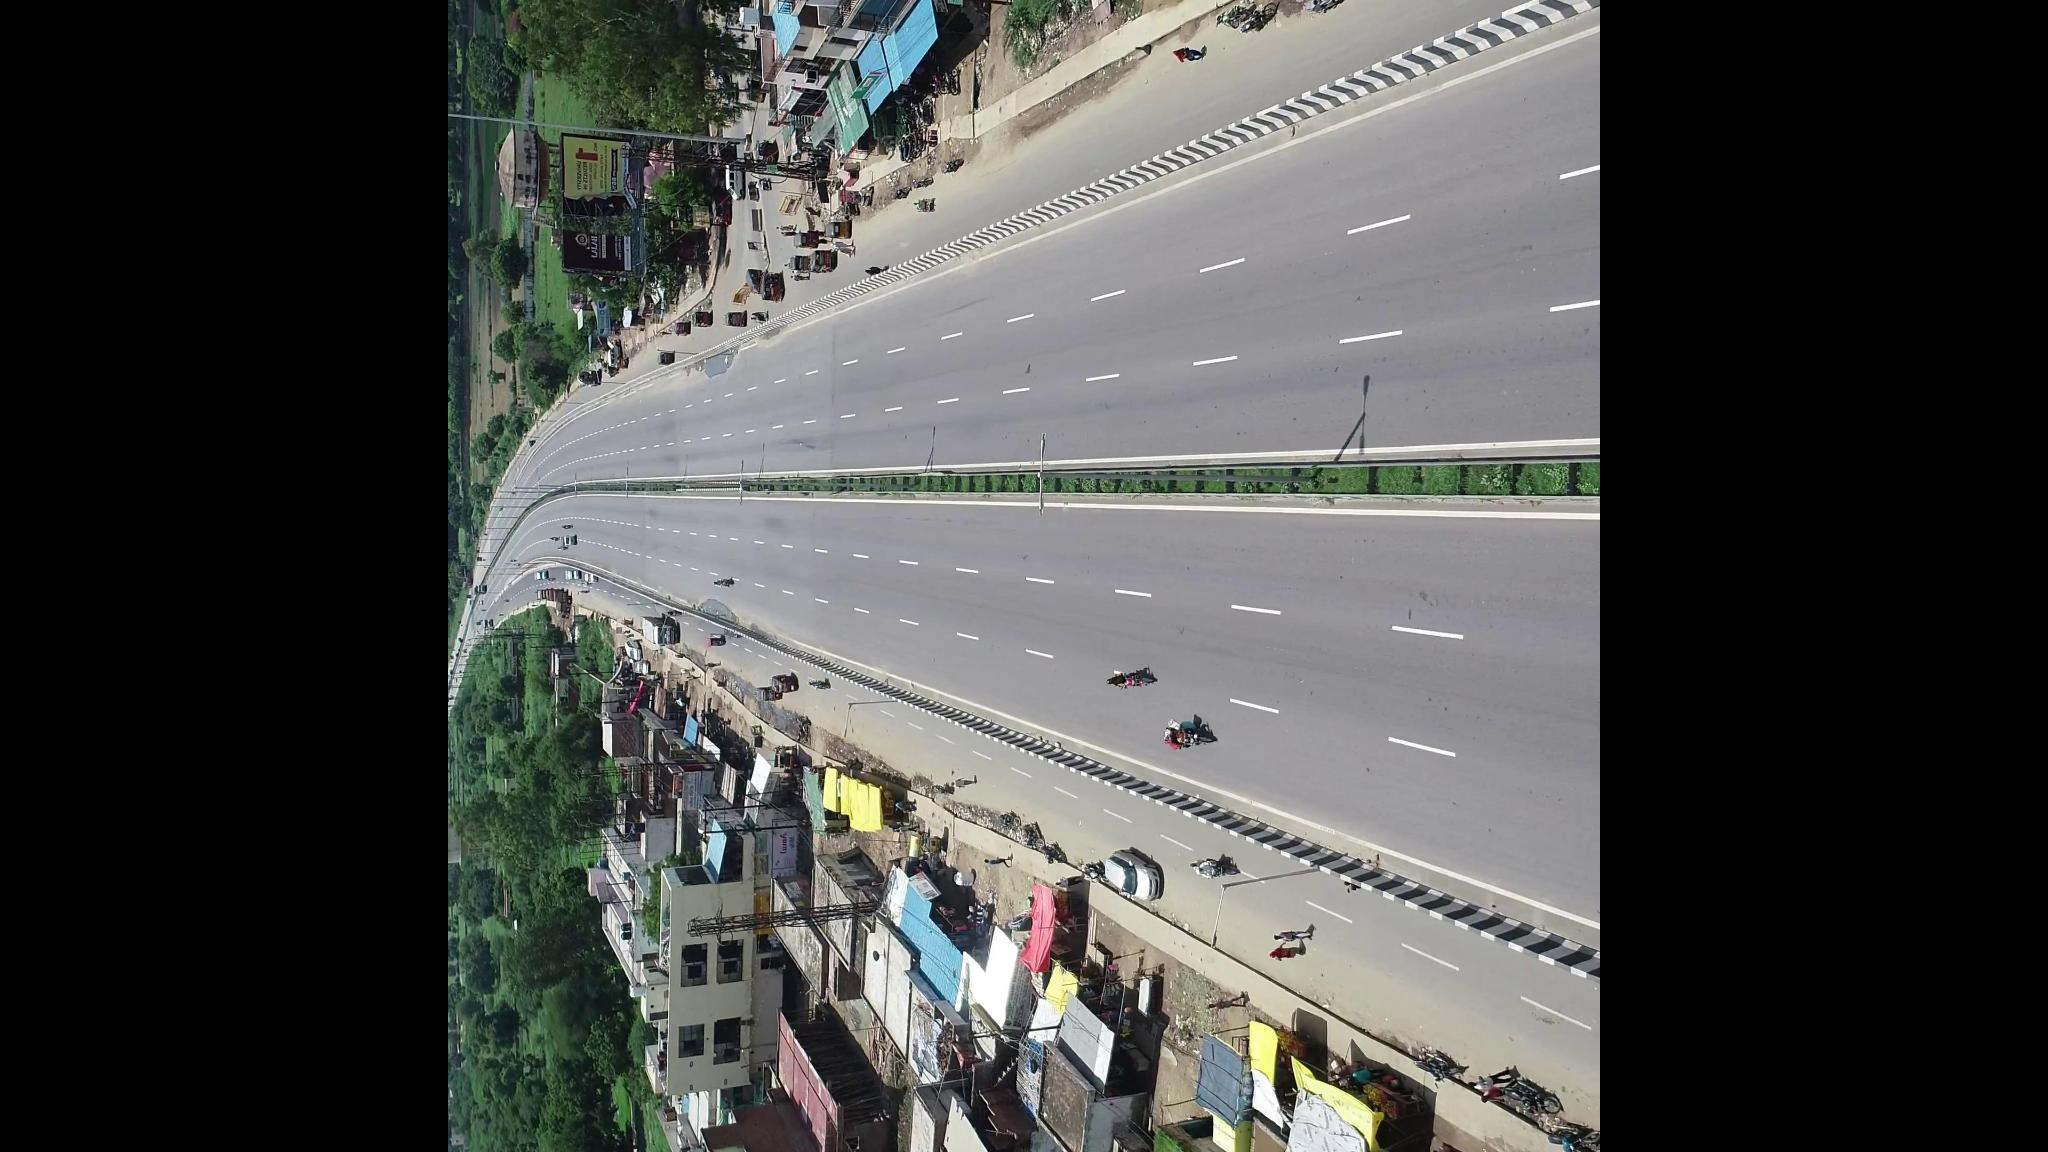Waterlogging: (693, 352, 743, 381), (700, 598, 738, 619)
